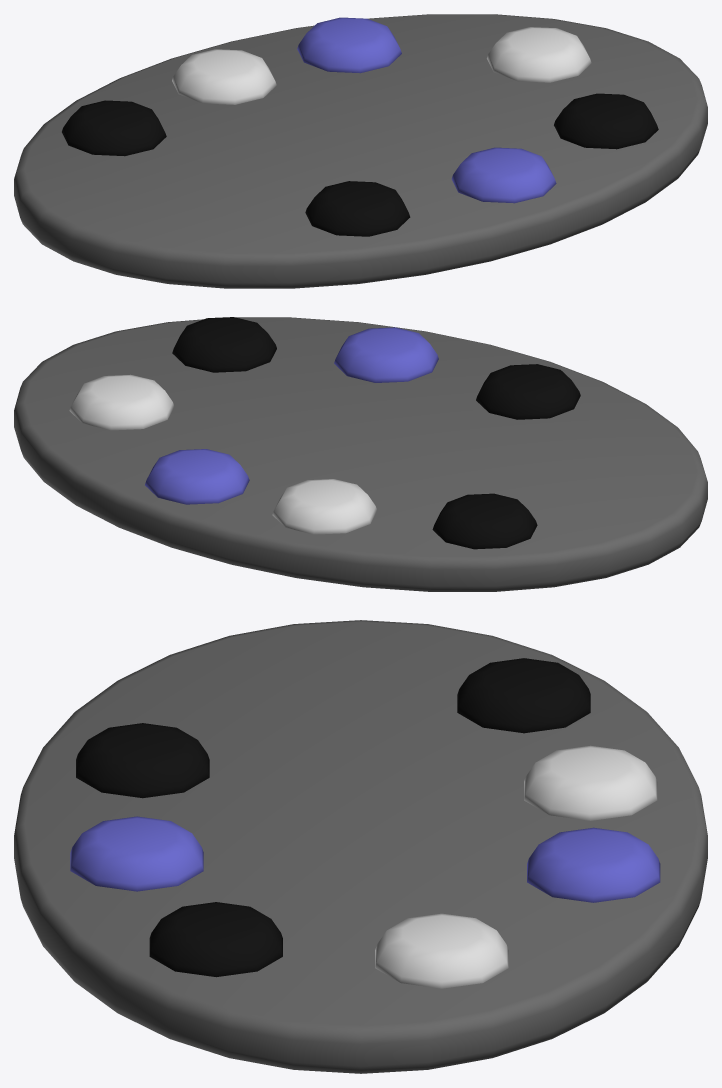
File: SM_palette_painting.fbx
The picture shows the model from 3 angles, top to bottom: view 1: azimuth 30°, elevation 25°; view 2: azimuth 150°, elevation 25°; view 3: azimuth 270°, elevation 25°; orthographic projection. The views are drawn at different scales.
Parts seen in each view (by area): view 1: Cylinder007; view 2: Cylinder007; view 3: Cylinder007.
Part boxes in pixels (x1=…): Cylinder007: x1=14, y1=14, x2=707, y2=288; Cylinder007: x1=14, y1=317, x2=707, y2=591; Cylinder007: x1=14, y1=620, x2=707, y2=1073.
Size of the model in its own units: 35.96 by 2.91 by 25.3.
